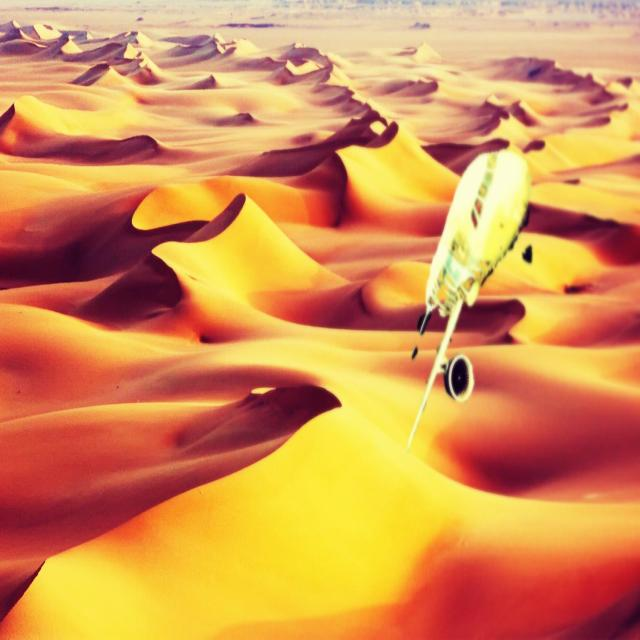airplane: (406, 148, 530, 450)
